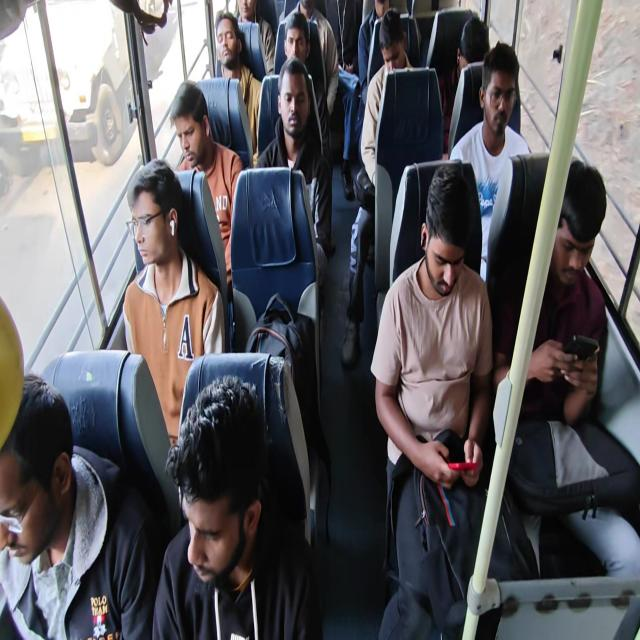person: (177, 401, 320, 640), (396, 160, 514, 361), (531, 162, 623, 361), (11, 371, 87, 609), (123, 146, 204, 328), (152, 97, 207, 180), (486, 66, 530, 156), (328, 0, 376, 74), (375, 2, 410, 94), (276, 72, 307, 162), (214, 20, 248, 102), (462, 8, 494, 72), (282, 23, 307, 64), (233, 0, 257, 32), (367, 0, 400, 20), (292, 0, 314, 24)
